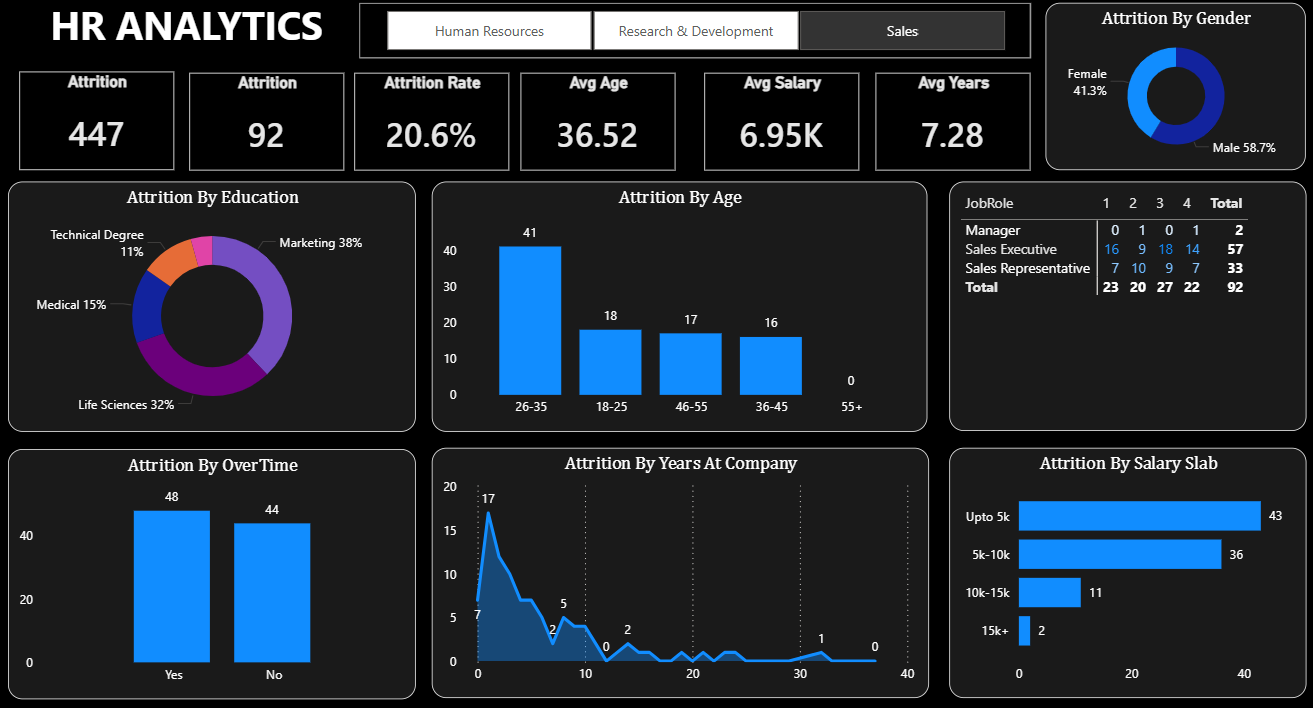

Layout of this report page (visuals, bound fields, positions):
{"tool":"powerbi","page":{"name":"HR Analytics Clean","canvas":[1280,720],"ordinal":0},"visuals":[{"type":"donutChart","title":"Attrition By Education","fields":{"Category":["HR Analytics Clean.EducationField"],"Y":["Sum(HR Analytics Clean.AttritionCountclean)"]},"box":[14.7,180.4,393.9,241.7],"z":0},{"type":"columnChart","title":"Attrition By Age","fields":{"Category":["HR Analytics Clean.AgeGroup"],"Y":["Sum(HR Analytics Clean.AttritionCountclean)"]},"box":[423.3,180.4,478.5,241.7],"z":1000},{"type":"pivotTable","fields":{"Rows":["HR Analytics Clean.JobRole"],"Columns":["HR Analytics Clean.JobSatisfaction"],"Values":["Sum(HR Analytics Clean.AttritionCountclean)"]},"box":[923.2,181,344.8,240.9],"z":2000},{"type":"barChart","title":"Attrition By Salary Slab","fields":{"Category":["HR Analytics Clean.SalarySlab"],"Y":["Sum(HR Analytics Clean.AttritionCountclean)"]},"box":[922.7,438,344.8,241.7],"z":3000},{"type":"areaChart","title":"Attrition By Years At Company","fields":{"Y":["Sum(HR Analytics Clean.AttritionCountclean)"],"Category":["HR Analytics Clean.YearsAtCompany"]},"box":[423.3,438,479.8,241.7],"z":4000},{"type":"textbox","box":[25.8,0,322.7,60.1],"z":5000},{"type":"cardVisual","title":"Avg Age","fields":{"Data":["Avg(HR Analytics Clean.Age)"]},"box":[509.2,76.1,149.7,94.5],"z":6000},{"type":"cardVisual","title":"Attrition Rate","fields":{"Data":["HR Analytics Clean.AttritionRate"]},"box":[348.5,76.1,149.7,94.5],"z":7000},{"type":"cardVisual","title":"Attrition","fields":{"Data":["Sum(HR Analytics Clean.AttritionCountclean)"]},"box":[189,76.1,149.7,94.5],"z":8000},{"type":"cardVisual","title":"Avg Years","fields":{"Data":["Avg(HR Analytics Clean.YearsAtCompany)"]},"box":[851.5,76.1,149.7,94.5],"z":9000},{"type":"cardVisual","title":"Avg Salary","fields":{"Data":["Avg(HR Analytics Clean.MonthlyIncome)"]},"box":[685.9,76.1,149.7,94.5],"z":10000},{"type":"donutChart","title":"Attrition By Gender","fields":{"Category":["HR Analytics Clean.Gender"],"Y":["Sum(HR Analytics Clean.AttritionCountclean)"]},"box":[1016,8.6,251.5,162],"z":11000},{"type":"slicer","fields":{"Values":["HR Analytics Clean.Department"]},"box":[353.4,8.6,647.9,54],"z":12000},{"type":"columnChart","title":"Attrition By OverTime","fields":{"Category":["HR Analytics Clean.OverTime"],"Y":["Sum(HR Analytics Clean.AttritionCountclean)"]},"box":[14.7,439.3,393.9,241.7],"z":13000},{"type":"cardVisual","title":"Attrition","fields":{"Data":["CountNonNull(HR Analytics Clean.EmpID)"]},"box":[25.3,74.8,149.6,95.3],"z":14000}]}

Visuals, with their boxes in screenshot pixels (x1, y1, x2, y2):
"Attrition By Education" donutChart: 2/140/412/392
"Attrition By Age" columnChart: 427/140/926/392
pivotTable - HR Analytics Clean.JobRole x HR Analytics Clean.JobSatisfaction: 948/141/1308/392
"Attrition By Salary Slab" barChart: 948/409/1307/660
"Attrition By Years At Company" areaChart: 427/409/927/660
textbox: 13/0/349/15
"Avg Age" cardVisual: 517/31/673/130
"Attrition Rate" cardVisual: 349/31/505/130
"Attrition" cardVisual: 183/31/339/130
"Avg Years" cardVisual: 874/31/1030/130
"Avg Salary" cardVisual: 701/31/857/130
"Attrition By Gender" donutChart: 1045/0/1307/130
slicer - HR Analytics Clean.Department: 355/0/1030/17
"Attrition By OverTime" columnChart: 2/410/412/662
"Attrition" cardVisual: 13/30/169/129
